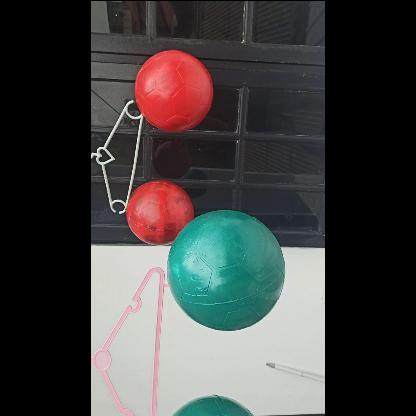red_ball: (134, 50, 212, 128)
